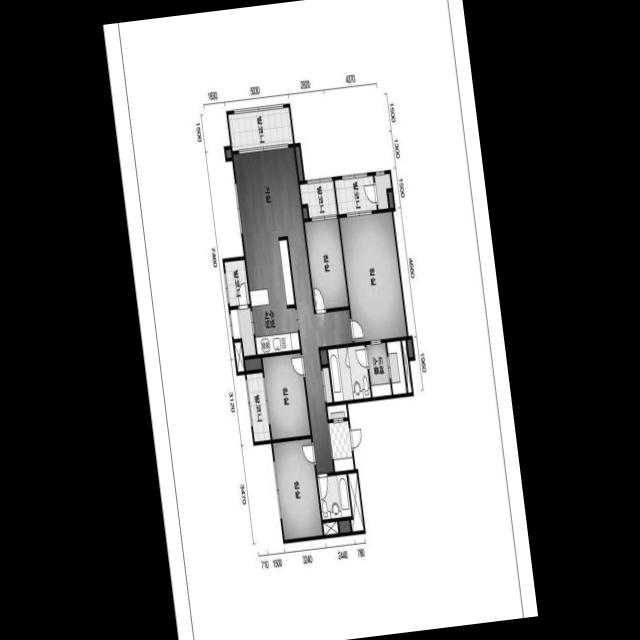background: (102, 0, 538, 640)
space_balconi: (227, 107, 293, 151), (246, 372, 270, 442), (334, 175, 376, 214), (299, 180, 337, 218), (224, 259, 249, 306)
space_bedroom: (338, 211, 406, 342), (272, 438, 322, 540), (261, 352, 310, 439), (304, 218, 348, 311)
space_dressroom: (366, 343, 391, 397), (386, 340, 406, 394)
space_front: (328, 420, 353, 471)
space_kitchen: (243, 237, 299, 354)
space_living_room: (232, 147, 352, 474), (322, 367, 332, 402)
space_other: (230, 307, 255, 356), (347, 472, 363, 531), (374, 173, 391, 209), (401, 340, 411, 392), (233, 342, 244, 371), (326, 404, 347, 419), (295, 146, 303, 180), (322, 521, 338, 535), (244, 358, 261, 371), (338, 519, 350, 533), (320, 349, 327, 364), (388, 192, 393, 207), (302, 207, 307, 218)
space_toilet: (327, 345, 370, 402), (317, 473, 351, 519)
